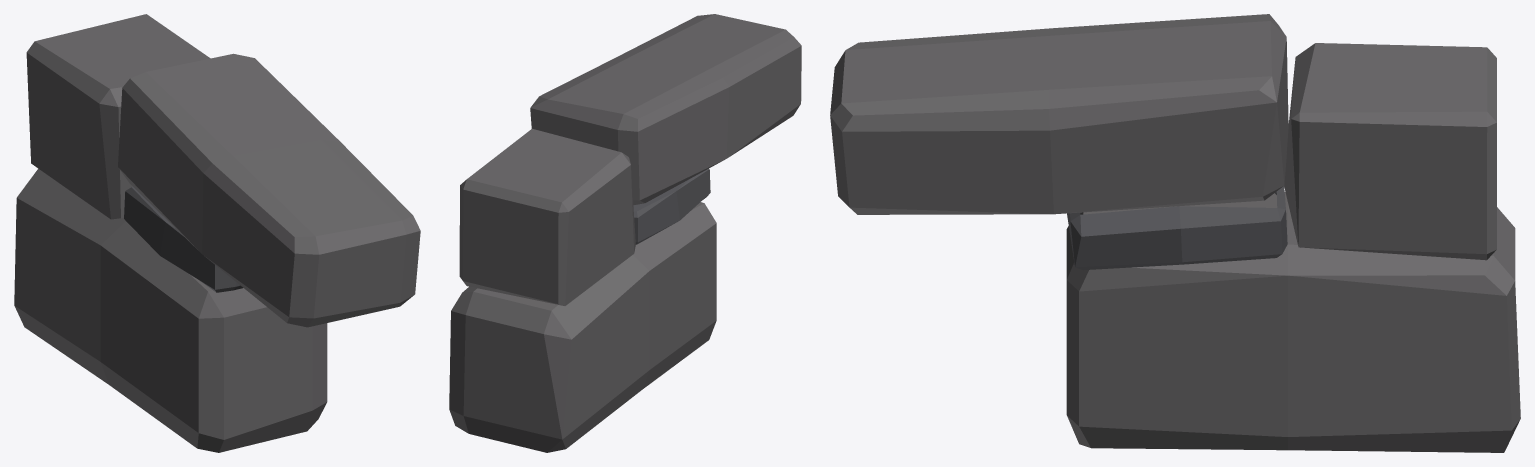
File: Murêt_roche_V4.fbx
3 renders of one model, left to right at view 1: azimuth 30°, elevation 25°; view 2: azimuth 150°, elevation 25°; view 3: azimuth 270°, elevation 25°, orthographic. The views are drawn at different scales.
Parts seen in each view (by area): view 1: Cube.006; view 2: Cube.006; view 3: Cube.006.
Boxes of the visible parts, x1,y1,x2,y2 form: Cube.006: (14, 14, 420, 452); Cube.006: (449, 14, 801, 452); Cube.006: (830, 14, 1520, 452).
Bounding box in the file's own units: 38.98 × 77.88 × 128.
